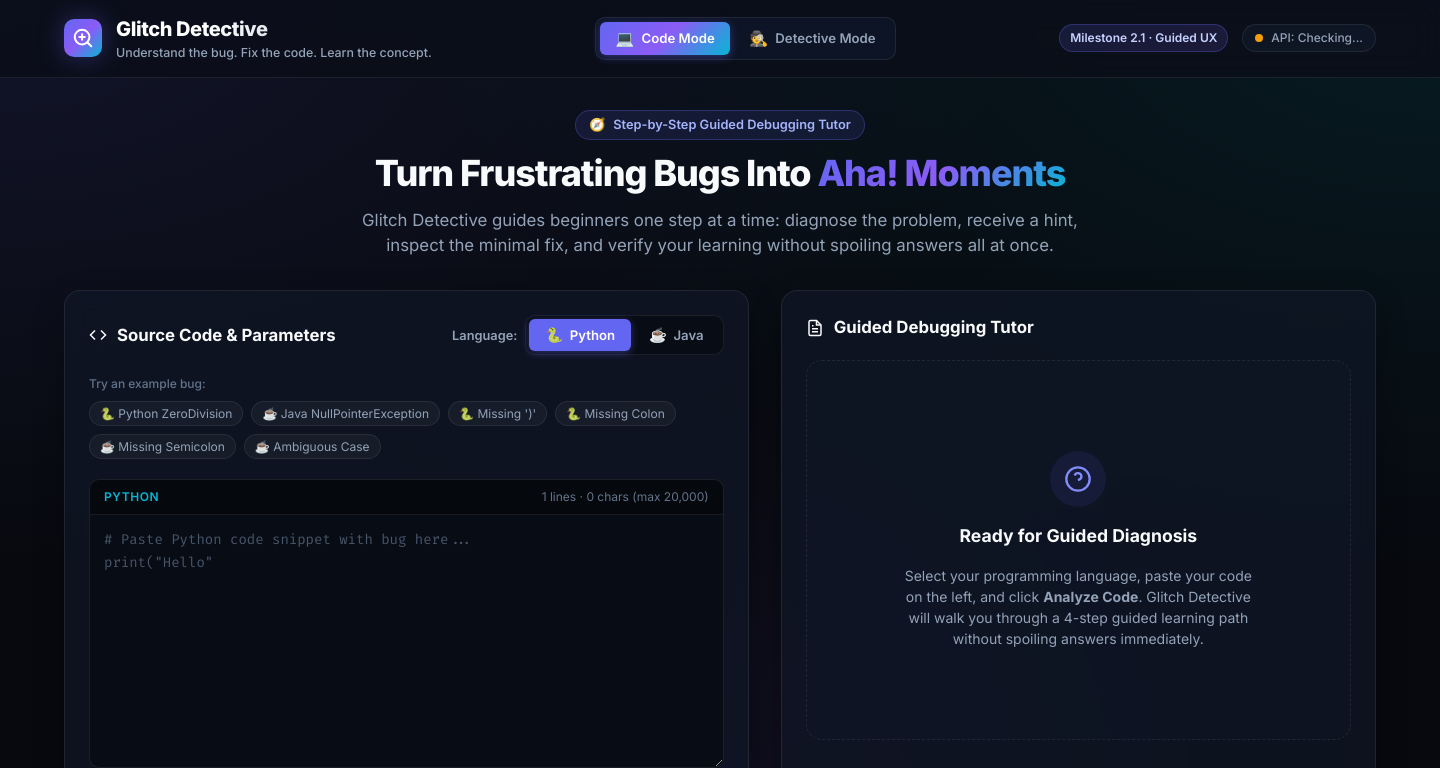
Test: Phase 3: Detective Mode UX & Challenge Engine Integration › reveals progressive hints one at a time and stops when all hints are revealed
Click the tab "🕵️ Detective Mode" at {"x": 812, "y": 38}, box 734,22 -> 891,55
(page scrolled)
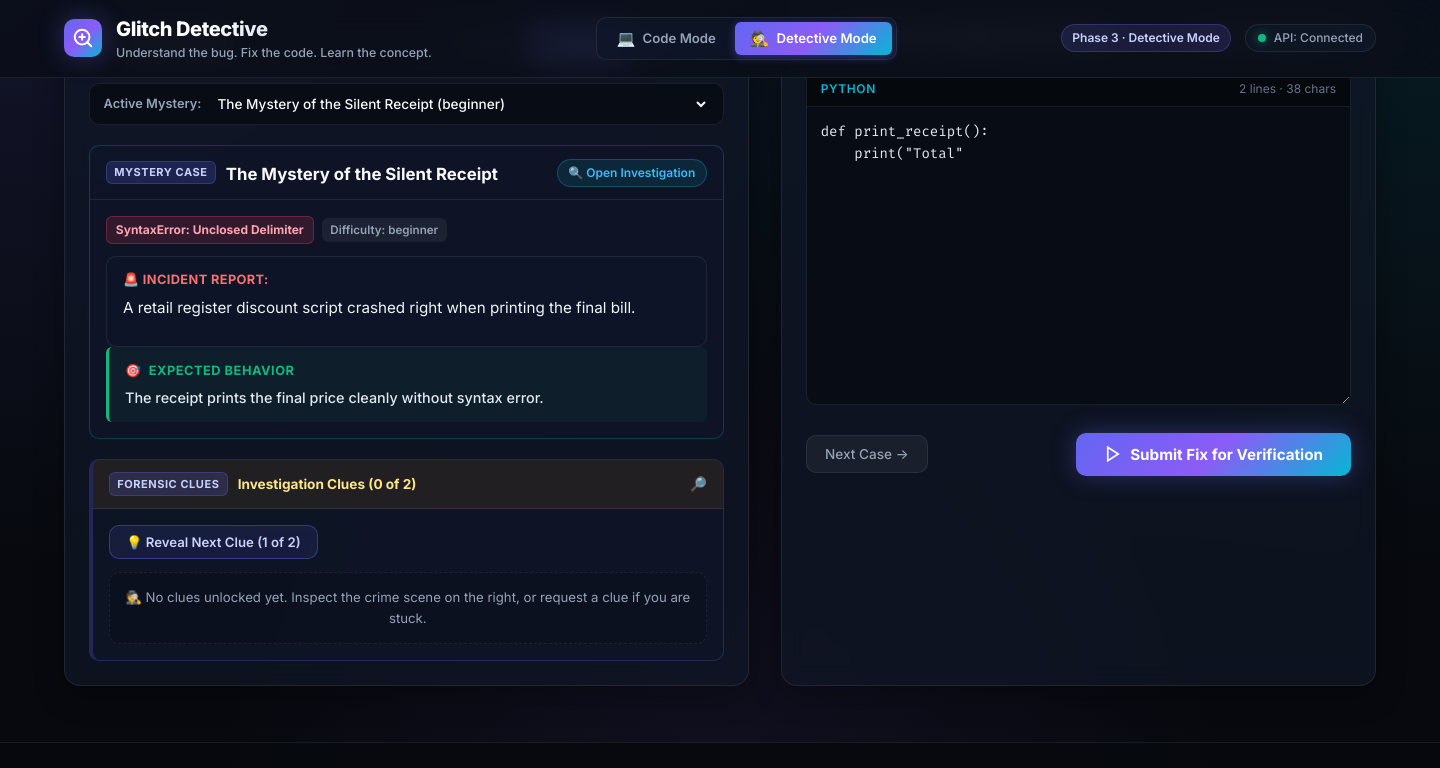
Expected: the heading "The Mystery of the Silent Receipt" is shown, 226,162 -> 498,187
Expected: the text "No clues unlocked yet" is shown, 125,589 -> 690,626
Expected: the button "💡 Reveal Next Clue (1 of 2)" is shown
Note: Reveal Hint #1
Click the button "💡 Reveal Next Clue (1 of 2)" at {"x": 213, "y": 542}, box 109,524 -> 318,558
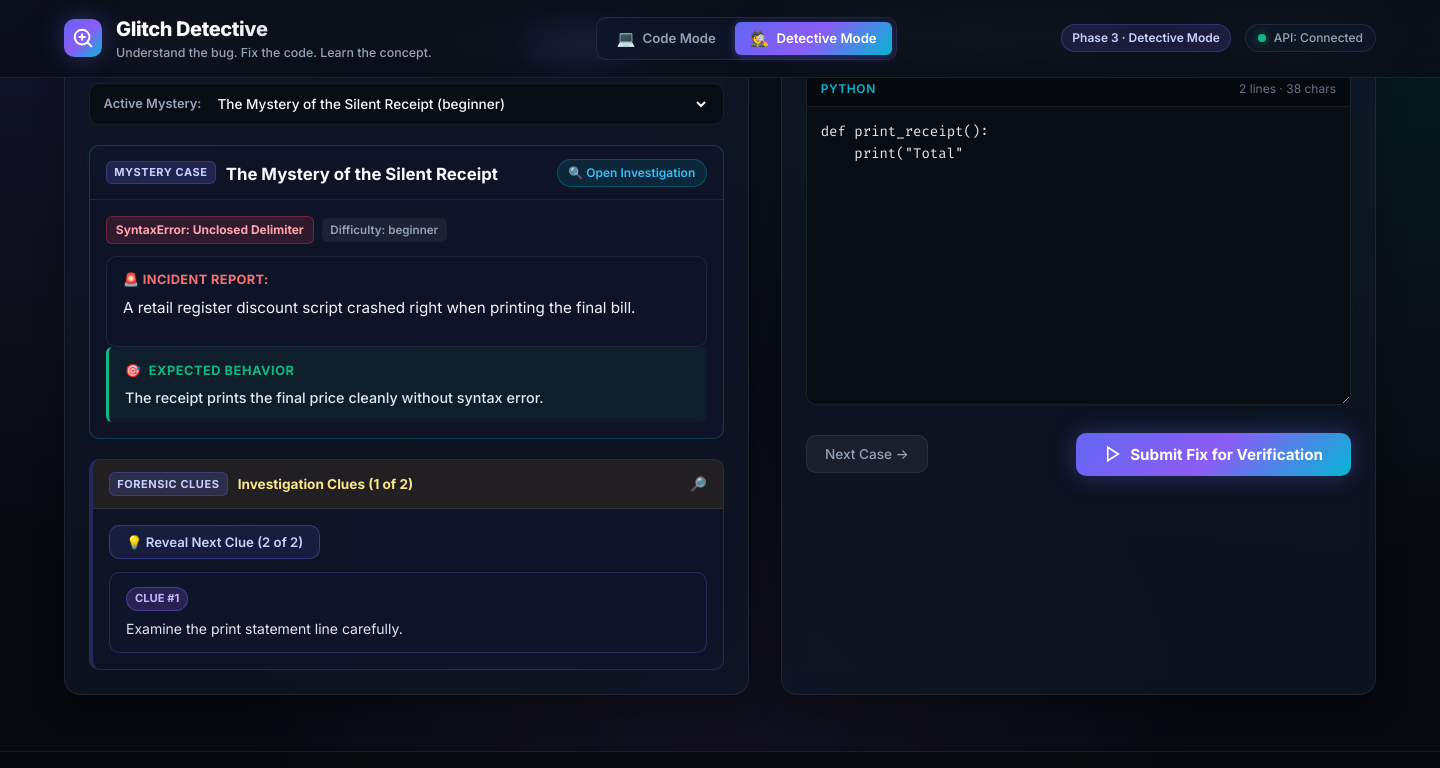
Expected: the text "Examine the print statement line carefully." is shown, 126,620 -> 403,637
Note: Button updates to request clue 2
Click the button "💡 Reveal Next Clue (2 of 2)" at {"x": 215, "y": 542}, box 109,524 -> 320,558
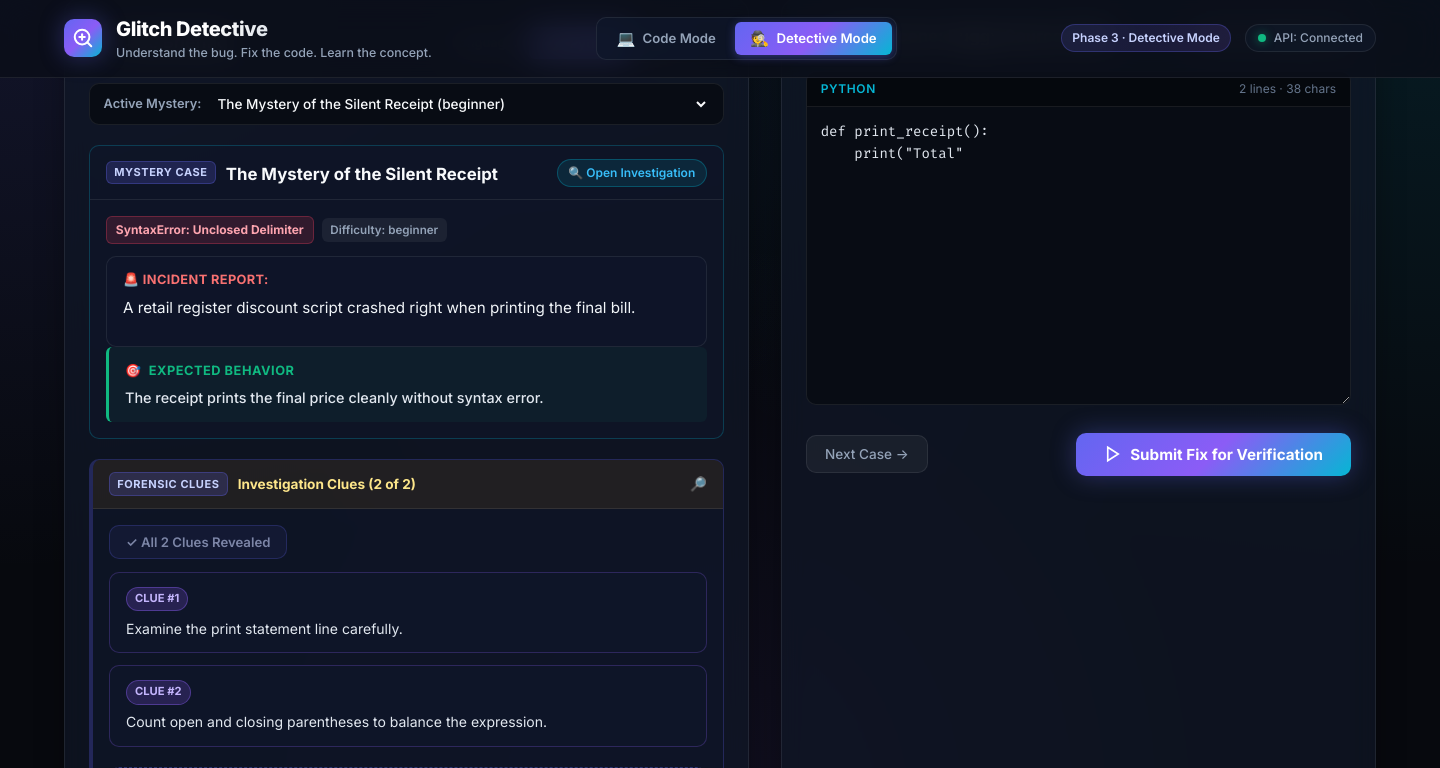
Expected: the text "Count open and closing parentheses to balance the expression." is shown, 126,713 -> 547,730
Expected: the button "✓ All 2 Clues Revealed" is disabled, 109,524 -> 287,558
